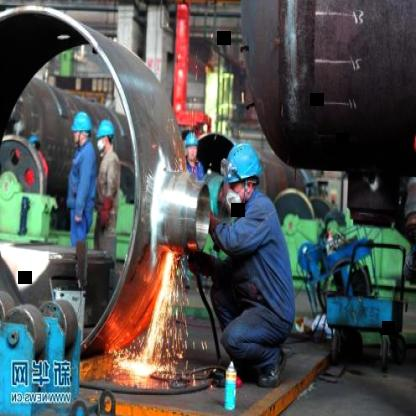helmet: (225, 146, 266, 204), (70, 108, 94, 148), (96, 118, 116, 154), (186, 130, 200, 161)
